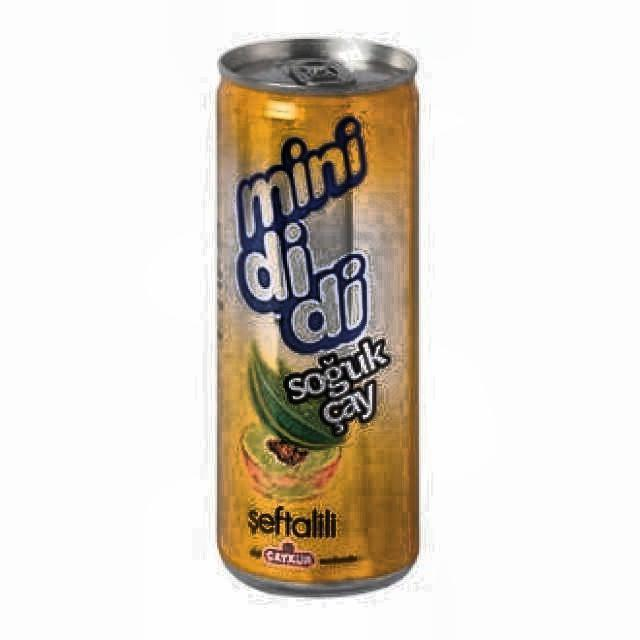metal: (214, 37, 420, 600)
